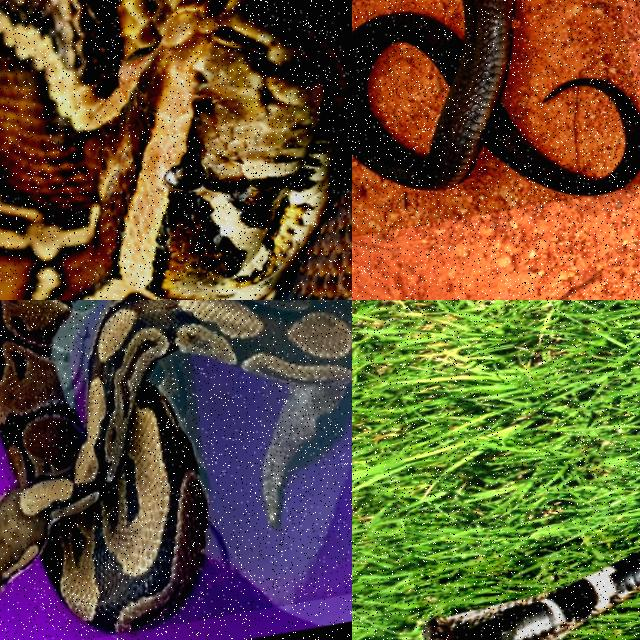Naja siamensis: (352, 0, 639, 194), (424, 550, 639, 639)
Python bivittatus: (0, 300, 351, 633), (0, 0, 351, 299)
